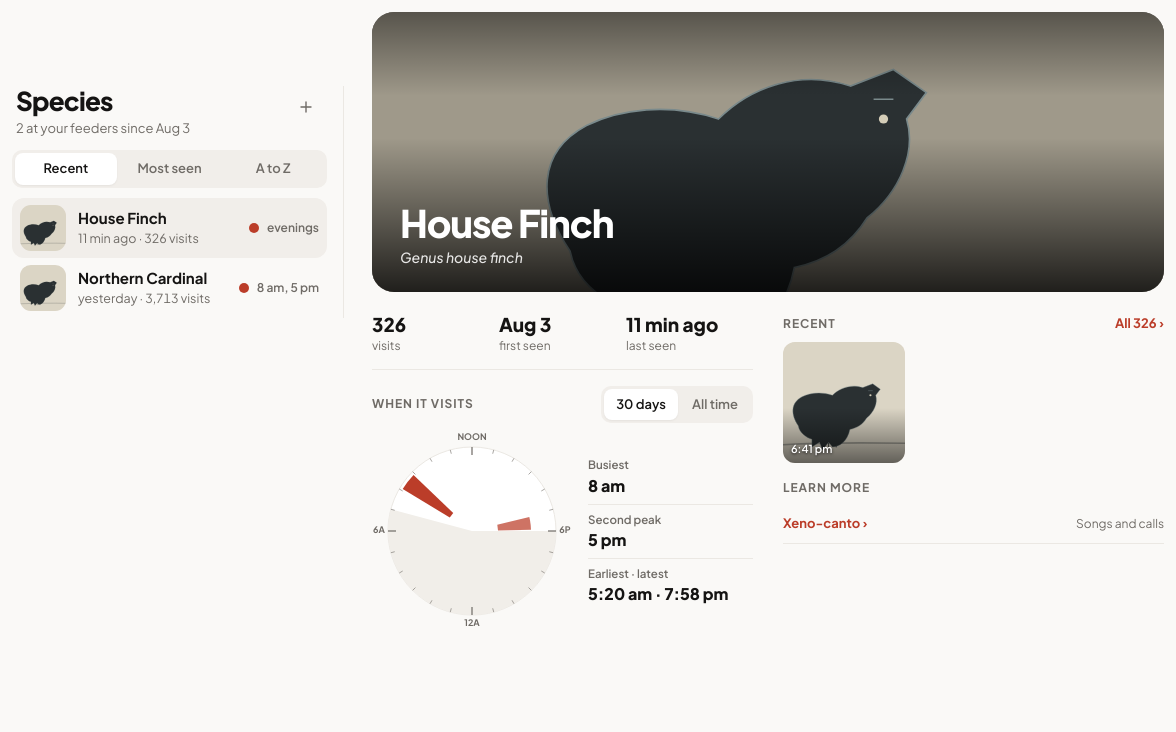
Test case: species page › sits beside the list on a wide screen, showing the top row
Expected: the navigation bar "Species" is shown, [12, 86, 344, 318]
Expected: the element "House Finch" is shown, [372, 12, 1164, 631]
Click the button "Northern Cardinal yesterday · 3,713 visits 8 am, 5 pm" at x=170, y=288, box [12, 258, 327, 318]
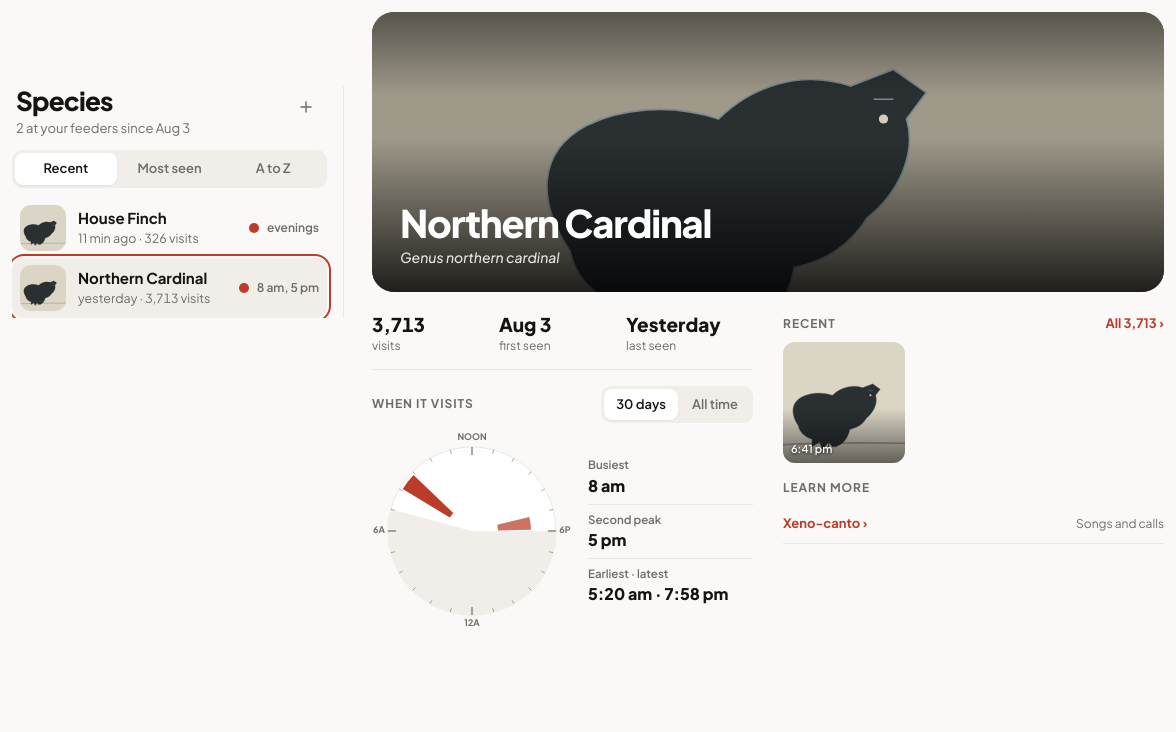
Expected: the text "5:20 am · 7:58 pm" is shown, [588, 582, 753, 606]
Expected: the element "Northern Cardinal" is shown, [372, 12, 1164, 631]
